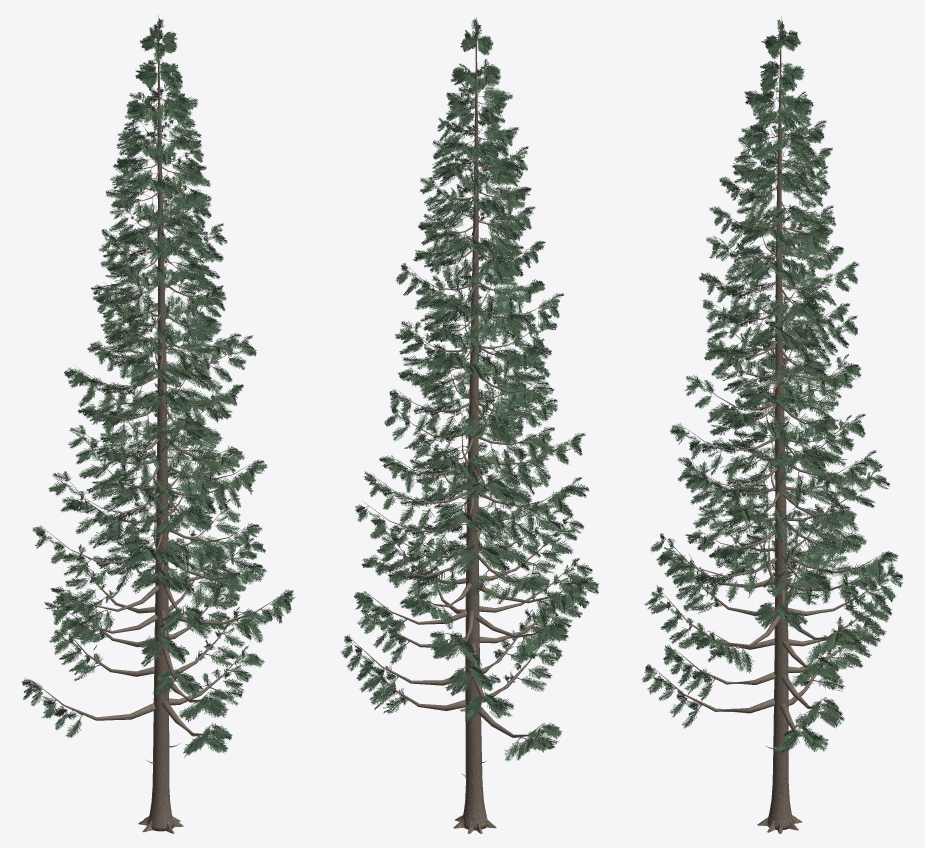
The model's file is SS_Defect_CoarseBranch_Mature_01_LOD0.fbx.
3 views of the same model, side by side, from view 1: azimuth 30°, elevation 25°; view 2: azimuth 150°, elevation 25°; view 3: azimuth 270°, elevation 25° (orthographic).
Visible parts, largest first — view 1: SS_Defect_CoarseBranch_Mature_01_LOD0_Foliage, SS_Defect_CoarseBranch_Mature_01_LOD0_Branches, SS_Defect_CoarseBranch_Mature_01_LOD0_Trunk; view 2: SS_Defect_CoarseBranch_Mature_01_LOD0_Foliage, SS_Defect_CoarseBranch_Mature_01_LOD0_Branches, SS_Defect_CoarseBranch_Mature_01_LOD0_Trunk; view 3: SS_Defect_CoarseBranch_Mature_01_LOD0_Foliage, SS_Defect_CoarseBranch_Mature_01_LOD0_Branches, SS_Defect_CoarseBranch_Mature_01_LOD0_Trunk.
Part boxes in pixels (bbox=[...]): SS_Defect_CoarseBranch_Mature_01_LOD0_Foliage: bbox=[21, 18, 295, 757]; SS_Defect_CoarseBranch_Mature_01_LOD0_Branches: bbox=[32, 33, 282, 763]; SS_Defect_CoarseBranch_Mature_01_LOD0_Trunk: bbox=[138, 15, 183, 833]; SS_Defect_CoarseBranch_Mature_01_LOD0_Foliage: bbox=[341, 18, 598, 761]; SS_Defect_CoarseBranch_Mature_01_LOD0_Branches: bbox=[353, 38, 578, 776]; SS_Defect_CoarseBranch_Mature_01_LOD0_Trunk: bbox=[453, 17, 496, 833]; SS_Defect_CoarseBranch_Mature_01_LOD0_Foliage: bbox=[642, 19, 902, 757]; SS_Defect_CoarseBranch_Mature_01_LOD0_Branches: bbox=[653, 33, 888, 778]; SS_Defect_CoarseBranch_Mature_01_LOD0_Trunk: bbox=[757, 15, 802, 833].
Size of the model in its own units: 769 by 2500 by 777.
Materials: 2 (2 with a texture image).
